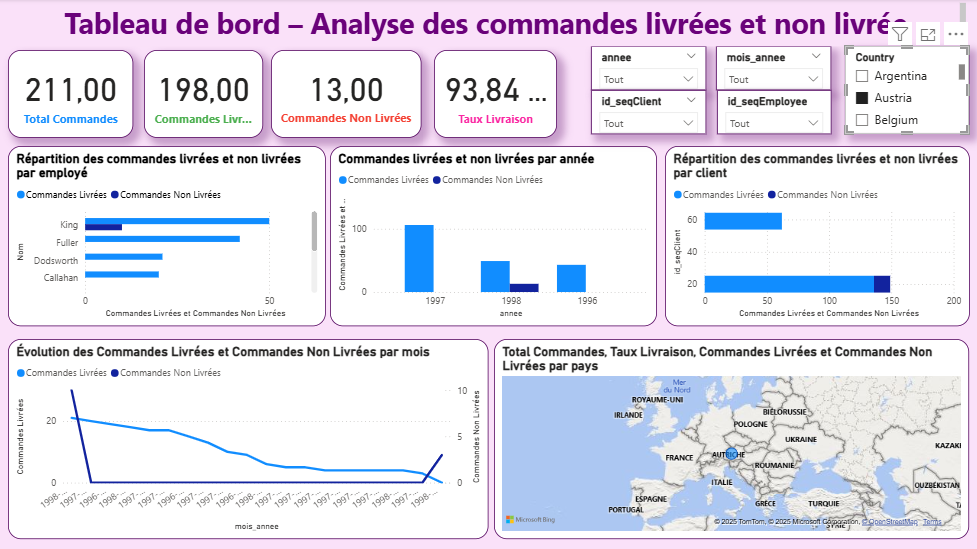

What the dashboard file says about the page in this screenshot:
{"tool":"powerbi","page":{"name":"Dashboard_biproject","canvas":[1280,720],"ordinal":0},"visuals":[{"type":"card","fields":{"Values":["TF_Commande.Total Commandes"]},"box":[11.5,66.2,164.2,115.2],"z":0},{"type":"card","fields":{"Values":["TF_Commande.Commandes Livrées"]},"box":[185.8,66.1,159.7,115.6],"z":1000},{"type":"card","fields":{"Values":["TF_Commande.Commandes Non Livrées"]},"box":[356.7,66.7,196.7,115],"z":2000},{"type":"card","fields":{"Values":["TF_Commande.Taux Livraison"]},"box":[568.4,65.8,169.5,115.4],"z":3000},{"type":"slicer","fields":{"Values":["Dim_Temps.annee"]},"box":[774.7,61.9,151.2,57.6],"z":4000},{"type":"slicer","fields":{"Values":["Dim_Temps.mois_annee"]},"box":[938.9,61.9,151.2,57.6],"z":5000},{"type":"slicer","fields":{"Values":["Dim_Client.Country"]},"box":[1107.4,61.9,162.7,115.2],"z":6000},{"type":"lineChart","title":"Évolution des Commandes Livrées et Commandes Non Livrées par mois","fields":{"Category":["Dim_Temps.mois_annee"],"Y":["TF_Commande.Commandes Livrées"],"Y2":["TF_Commande.Commandes Non Livrées"]},"box":[11.5,445,629.3,262.1],"z":7000},{"type":"clusteredBarChart","title":"Répartition des commandes livrées et non livrées par employé","fields":{"Category":["Dim_Employee.Nom"],"Y":["TF_Commande.Commandes Livrées","TF_Commande.Commandes Non Livrées"]},"box":[11.5,193,416.2,236.2],"z":8000},{"type":"clusteredColumnChart","title":"Commandes livrées et non livrées par année","fields":{"Category":["Dim_Temps.annee"],"Y":["TF_Commande.Commandes Livrées","TF_Commande.Commandes Non Livrées"]},"box":[433.4,193,427.7,236.2],"z":9000},{"type":"map","title":"Total Commandes, Taux Livraison, Commandes Livrées et Commandes Non Livrées par pays","fields":{"Category":["Dim_Client.Country"],"Size":["TF_Commande.Total Commandes"]},"box":[648,445,622.1,262.1],"z":10000},{"type":"slicer","fields":{"Values":["TF_Commande.id_seqClient"]},"box":[774.7,119.5,151.2,57.6],"z":11000},{"type":"slicer","fields":{"Values":["TF_Commande.id_seqEmployee"]},"box":[940.3,119.5,149.8,57.6],"z":12000},{"type":"barChart","title":"Répartition des commandes livrées et non livrées par client ","fields":{"Category":["Dim_Client.id_seqClient"],"Y":["TF_Commande.Commandes Livrées","TF_Commande.Commandes Non Livrées"]},"box":[871.2,193,398.9,236.2],"z":13000},{"type":"textbox","box":[11.5,0,1258.6,61.9],"z":14000}]}

Visuals, with their boxes in screenshot pixels (x1, y1, x2, y2), scaled from the page's 1280x720 canvas onto the 977x549 screenshot:
card - TF_Commande.Total Commandes: 9 50 134 138
card - TF_Commande.Commandes Livrées: 142 50 264 139
card - TF_Commande.Commandes Non Livrées: 272 51 422 139
card - TF_Commande.Taux Livraison: 434 50 563 138
slicer - Dim_Temps.annee: 591 47 707 91
slicer - Dim_Temps.mois_annee: 717 47 832 91
slicer - Dim_Client.Country: 845 47 969 135
"Évolution des Commandes Livrées et Commandes Non Livrées par mois" lineChart: 9 339 489 539
"Répartition des commandes livrées et non livrées par employé" clusteredBarChart: 9 147 326 327
"Commandes livrées et non livrées par année" clusteredColumnChart: 331 147 657 327
"Total Commandes, Taux Livraison, Commandes Livrées et Commandes Non Livrées par pays" map: 495 339 969 539
slicer - TF_Commande.id_seqClient: 591 91 707 135
slicer - TF_Commande.id_seqEmployee: 718 91 832 135
"Répartition des commandes livrées et non livrées par client " barChart: 665 147 969 327
textbox: 9 0 969 47
